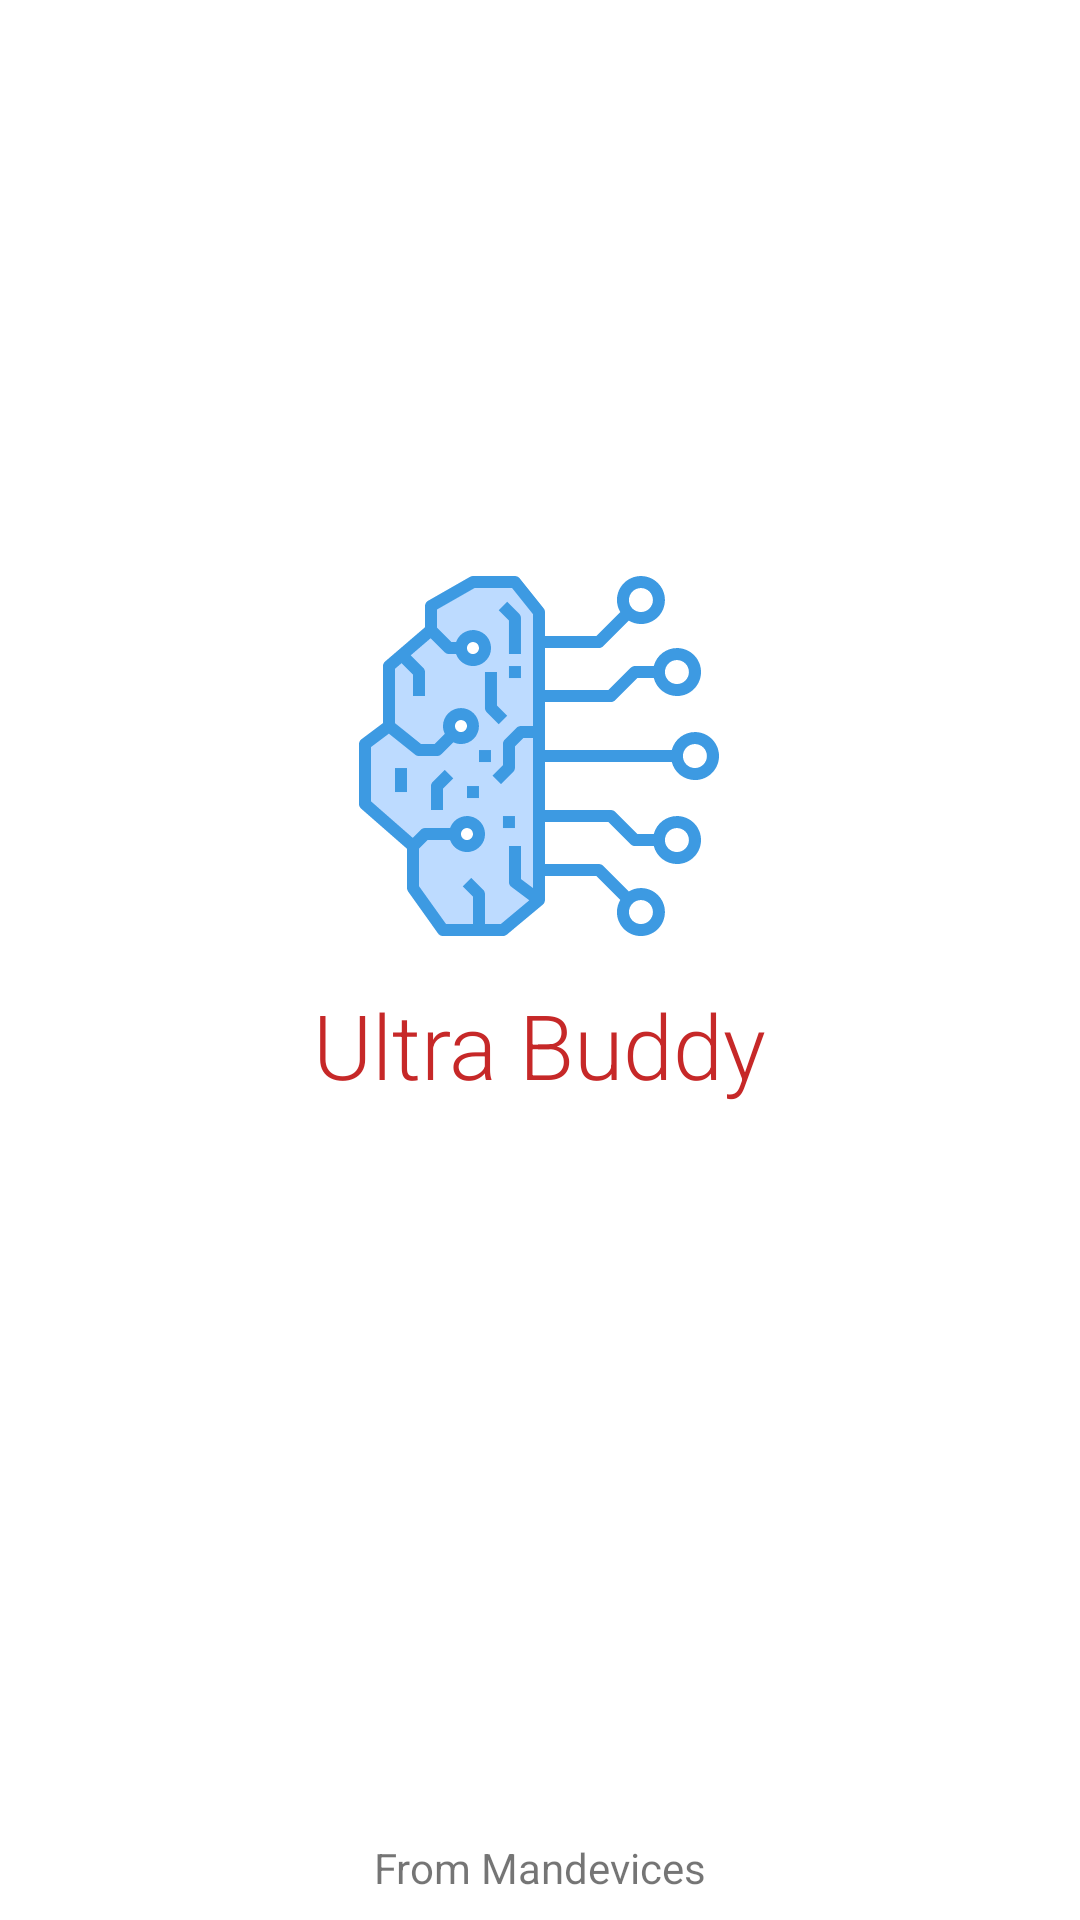

Named icons in this screenshot (1080x1920) and their bounding boxes, {"left": x1, "top": y1, "right": x2, "bottom": y2}:
artificial intelligence: {"left": 359, "top": 576, "right": 719, "bottom": 936}
